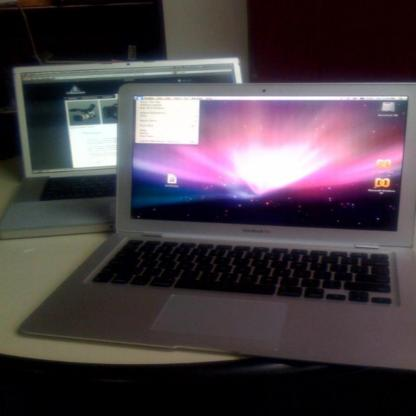board: (19, 83, 416, 370), (0, 58, 242, 238)
